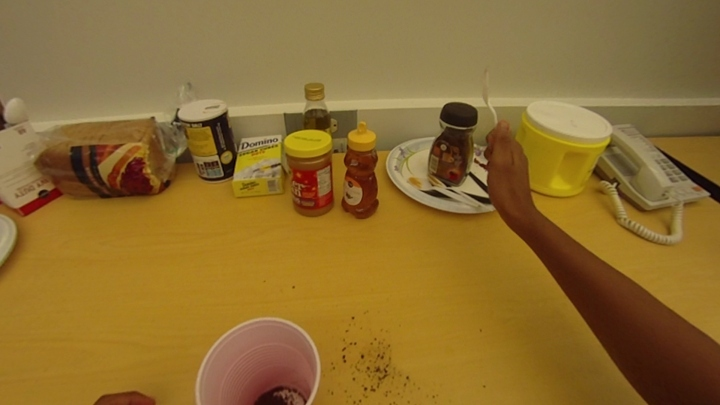hand: (480, 117, 532, 224)
